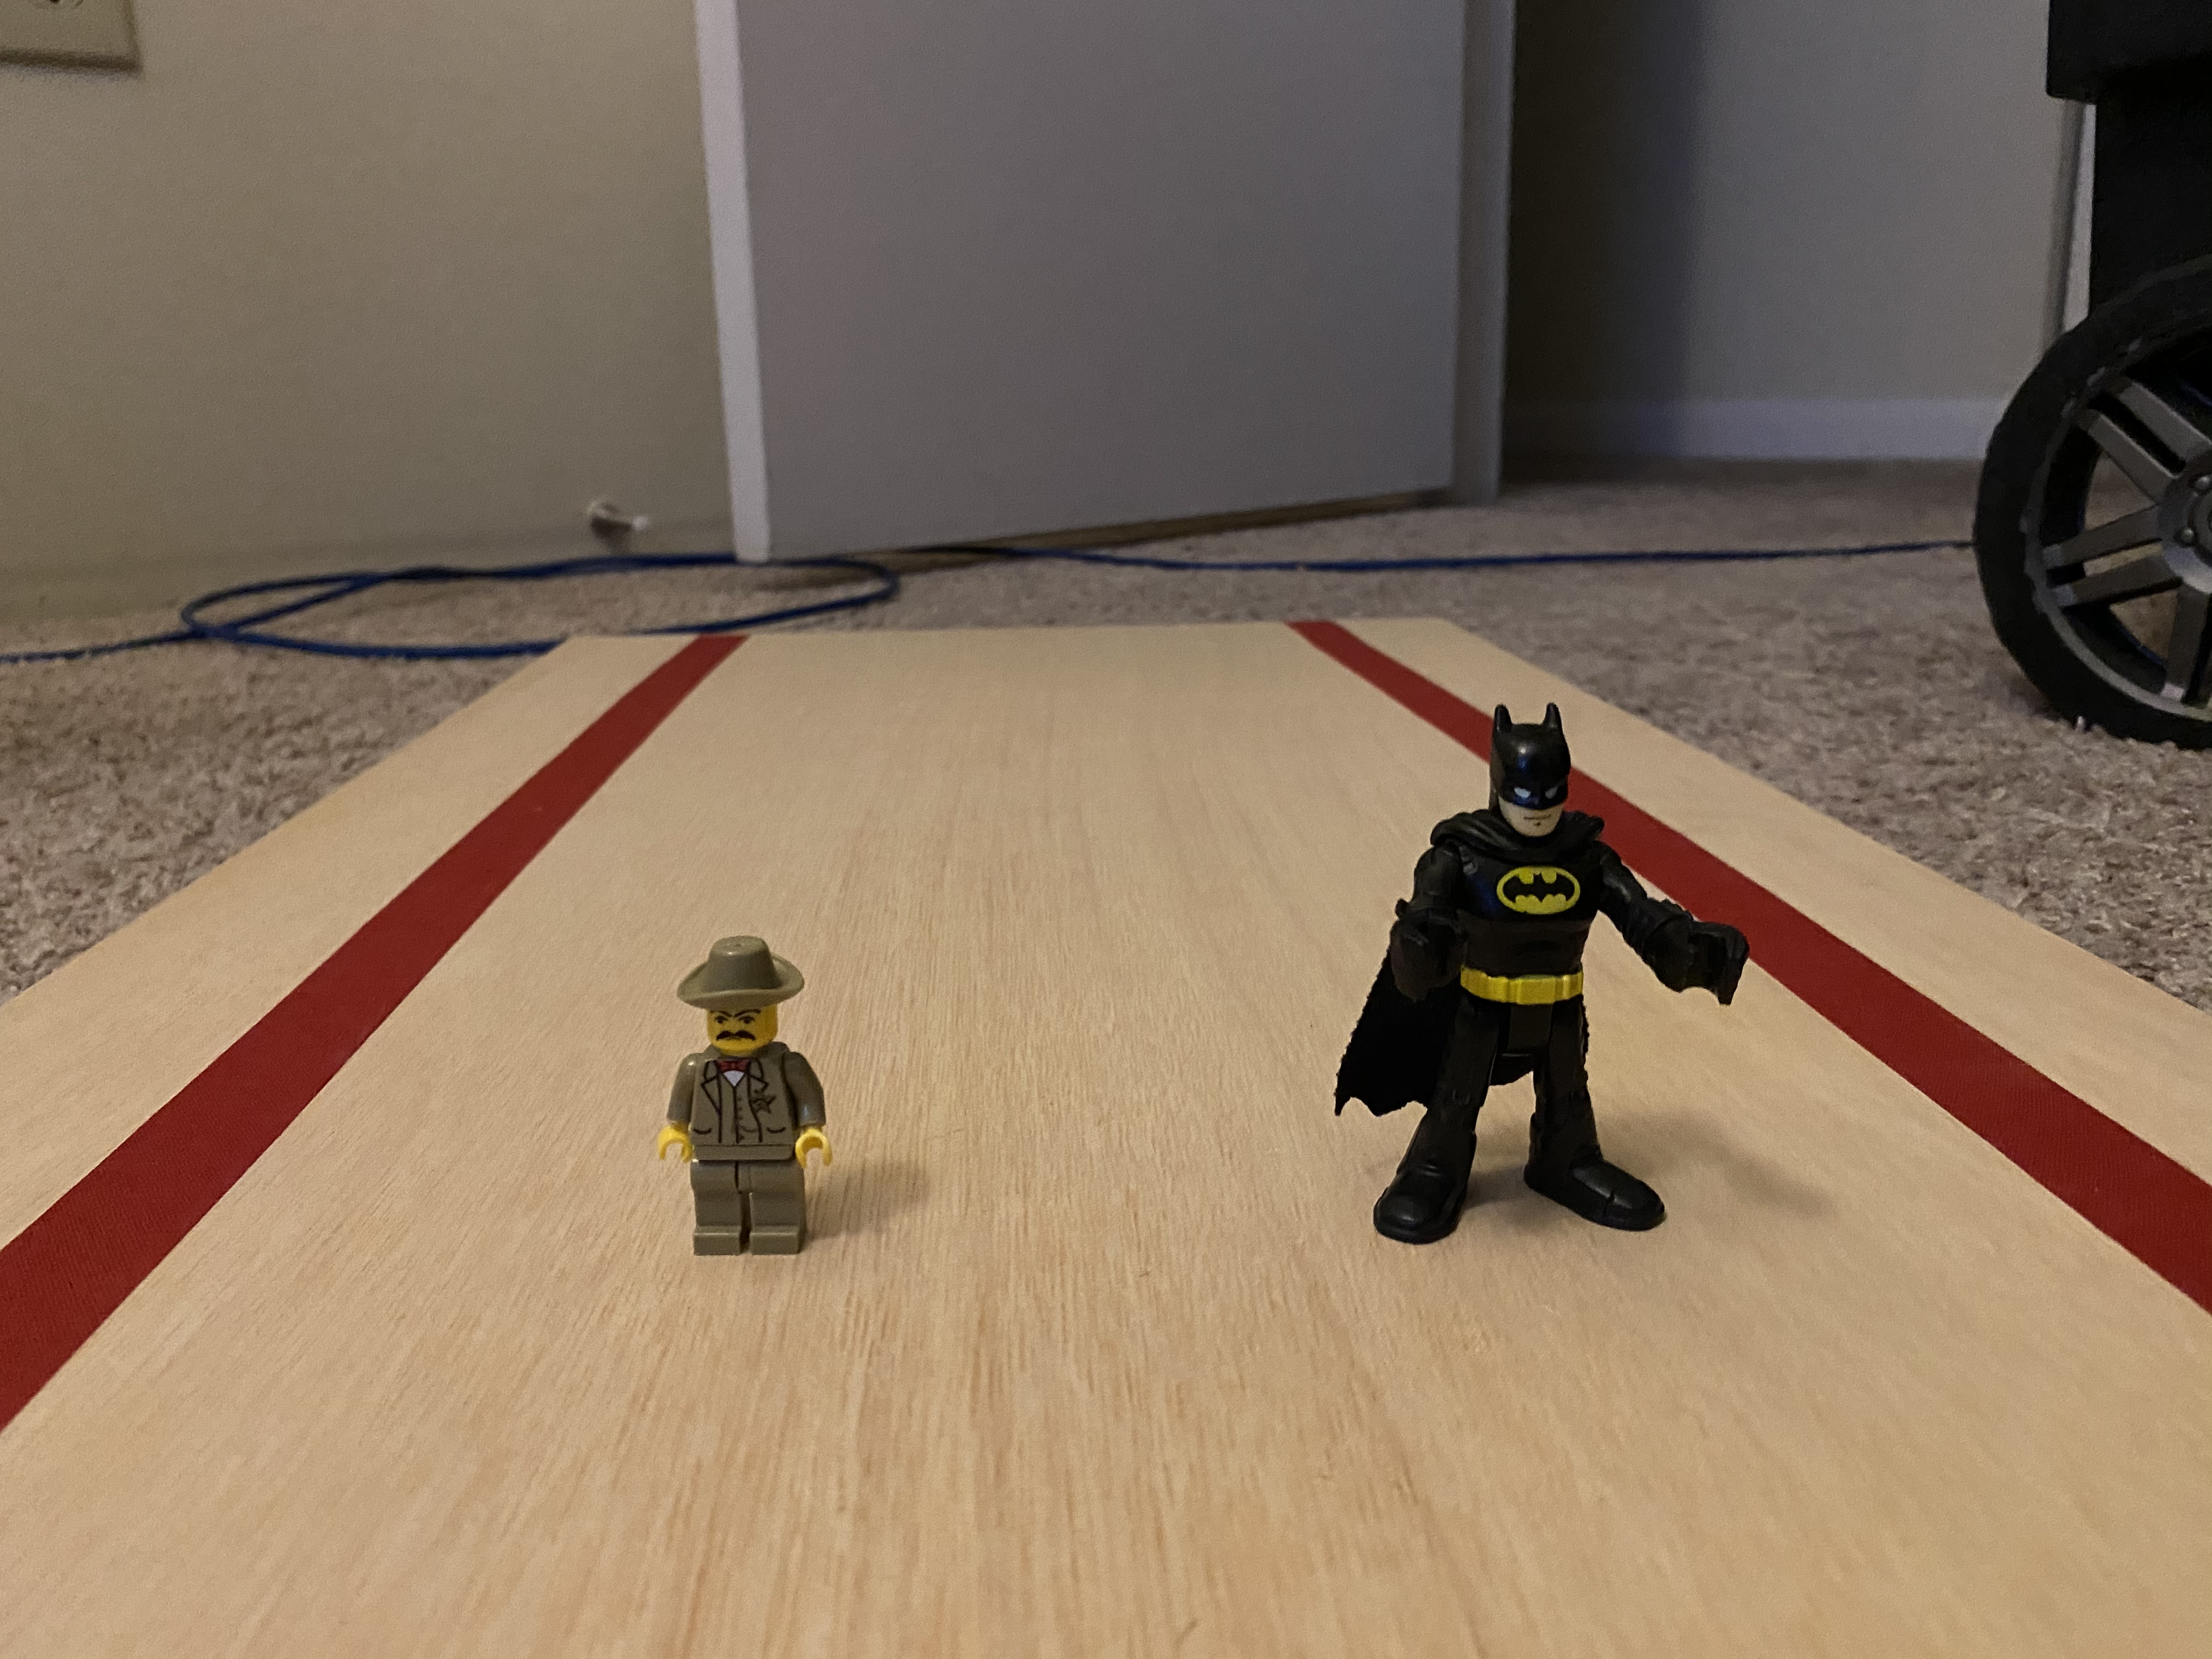Person: (1302, 679, 1764, 1255), (617, 921, 887, 1273)
